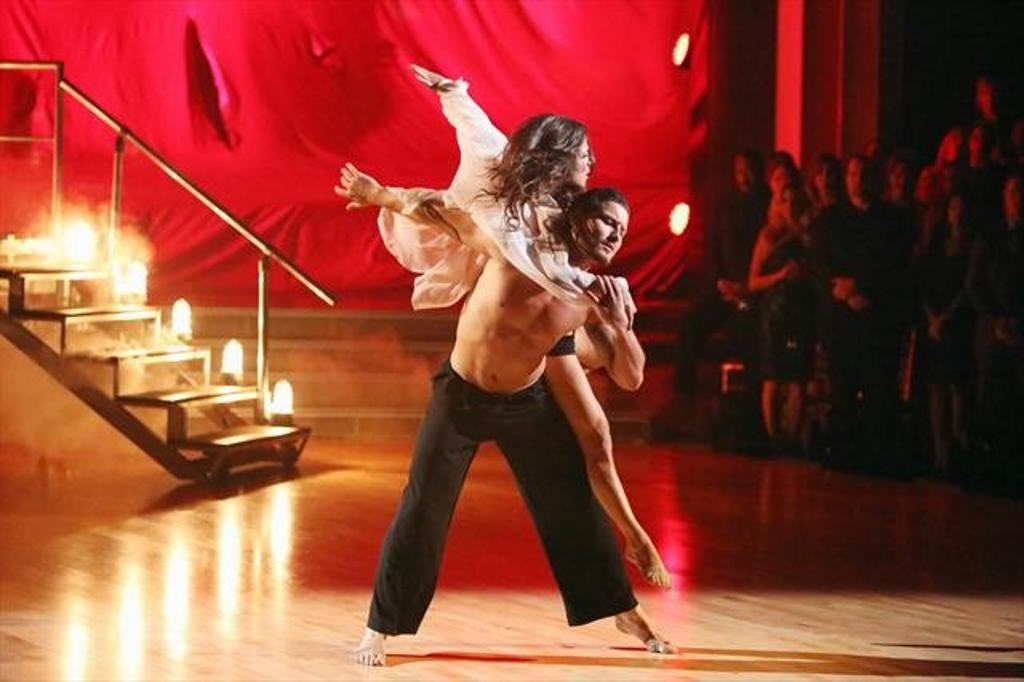face: (593, 200, 630, 269), (560, 138, 592, 191), (847, 161, 875, 205), (734, 158, 758, 192), (773, 169, 797, 201), (1006, 183, 1024, 216), (894, 164, 914, 193), (970, 130, 990, 158), (818, 163, 836, 194), (782, 191, 800, 220), (948, 200, 967, 226)
